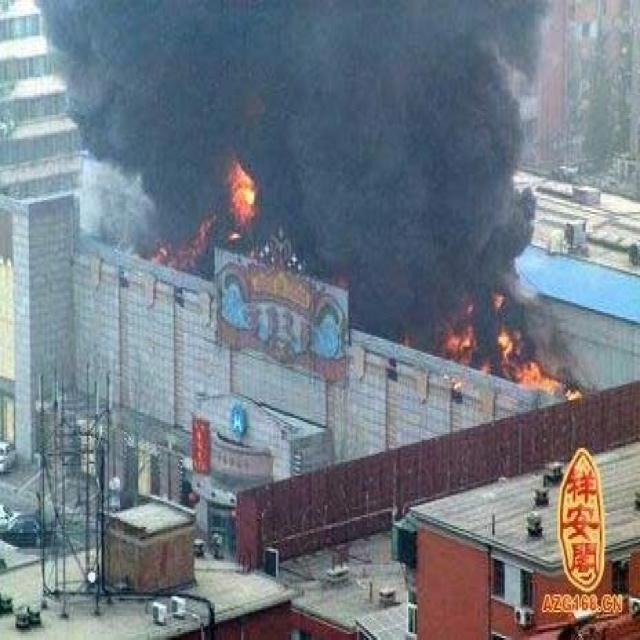fire: (444, 297, 581, 396), (225, 158, 256, 220)
smoke: (49, 0, 535, 342)
